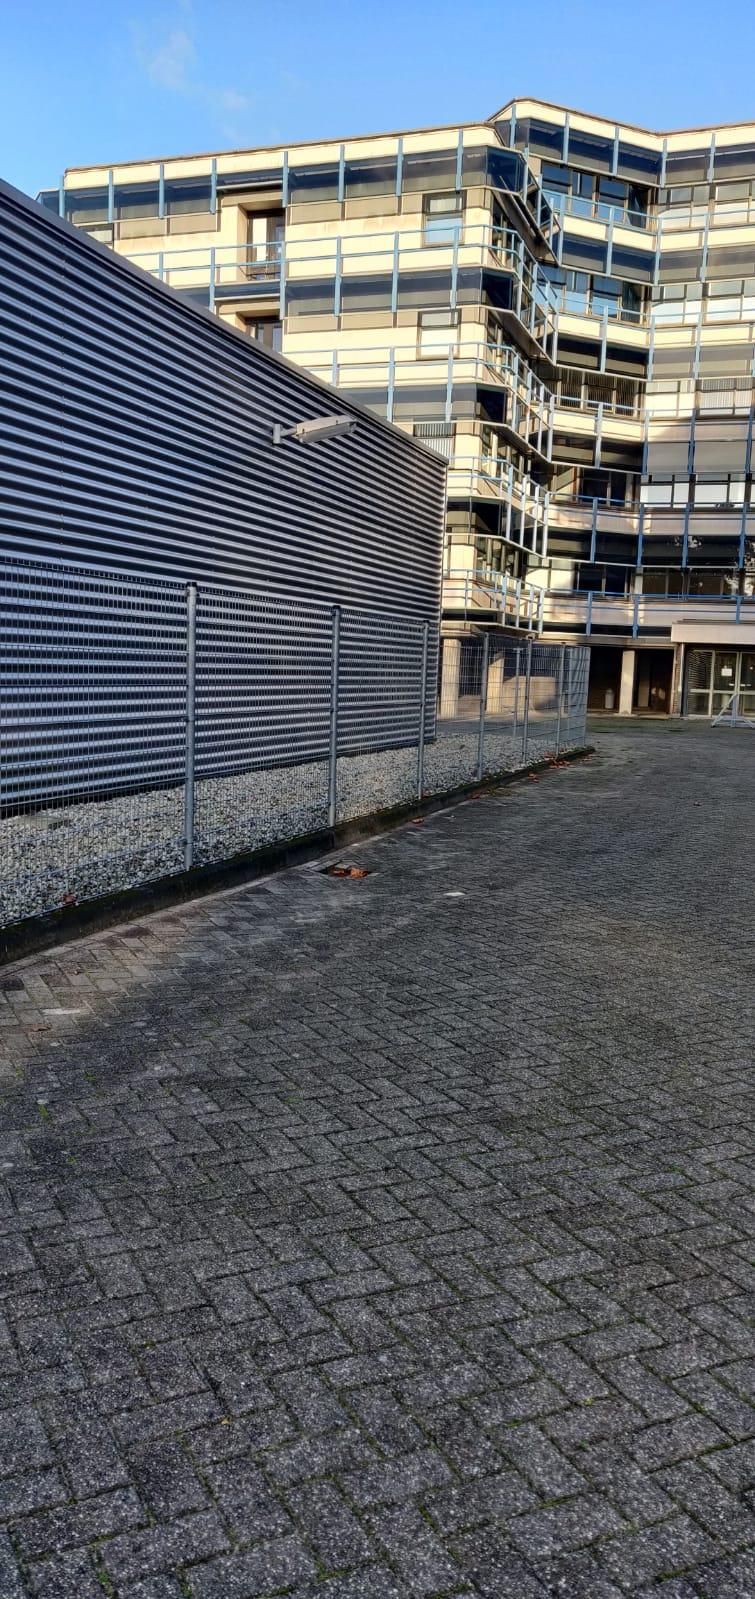obstacle: (23, 0, 755, 1592)
